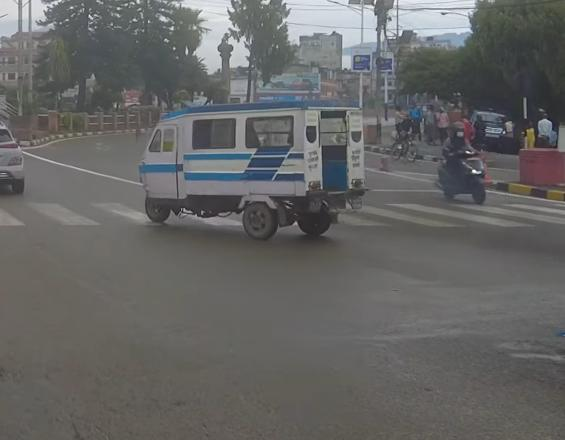car: (0, 117, 28, 198)
scooter: (437, 150, 494, 208)
tempo: (124, 95, 378, 254)
